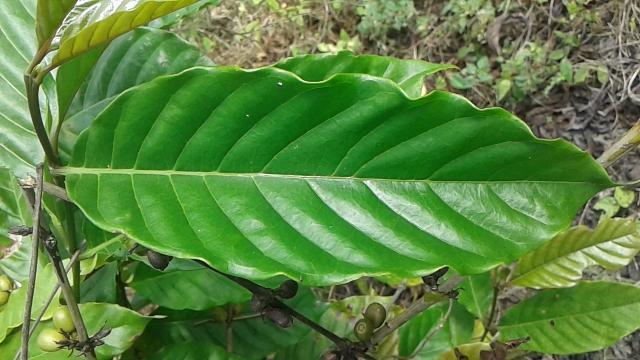healthy: (65, 64, 616, 287)
